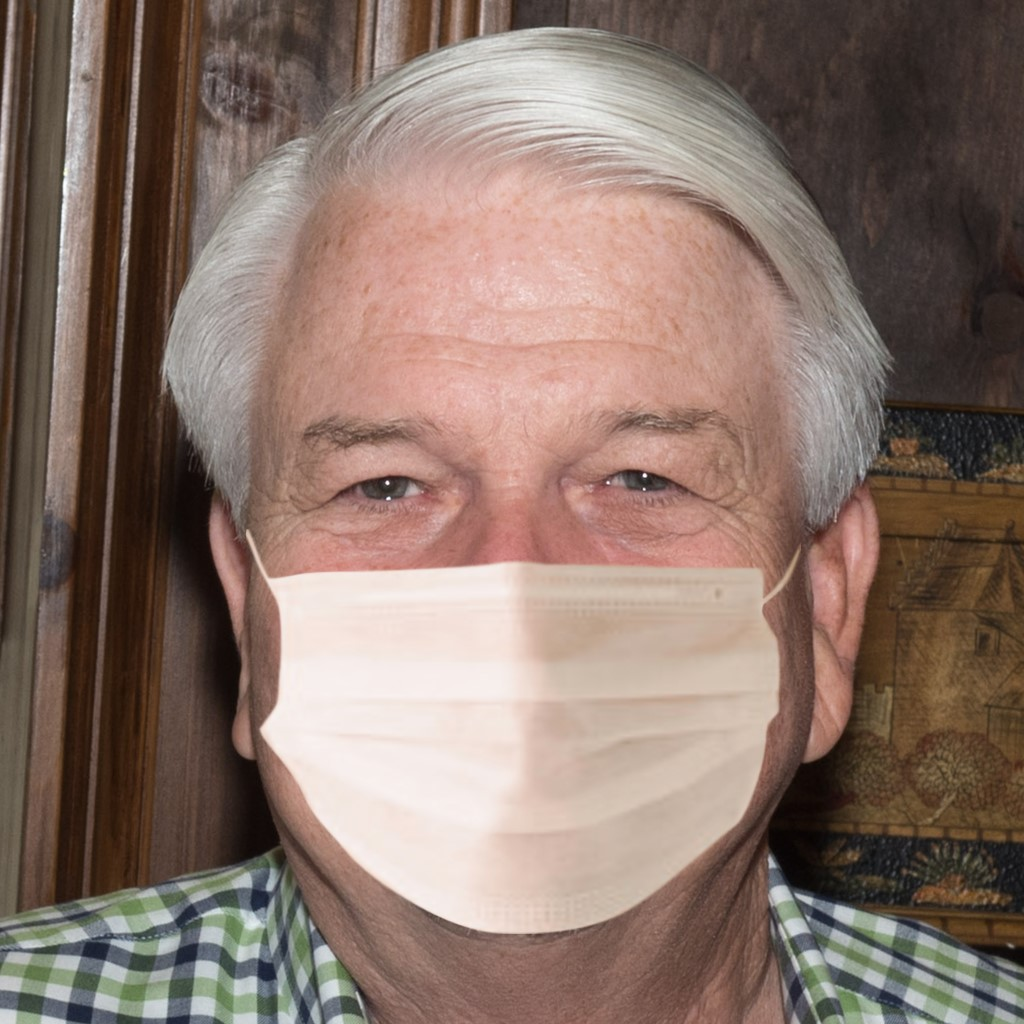con_mascara: (207, 179, 856, 954)
